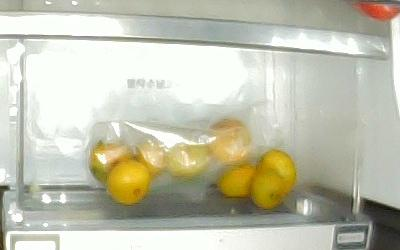tangerine: (256, 150, 297, 198), (107, 159, 150, 204), (250, 167, 285, 209), (217, 164, 259, 198)
tangerine_vinyl: (206, 118, 251, 164), (88, 141, 133, 184), (166, 142, 213, 177), (135, 142, 167, 178)
